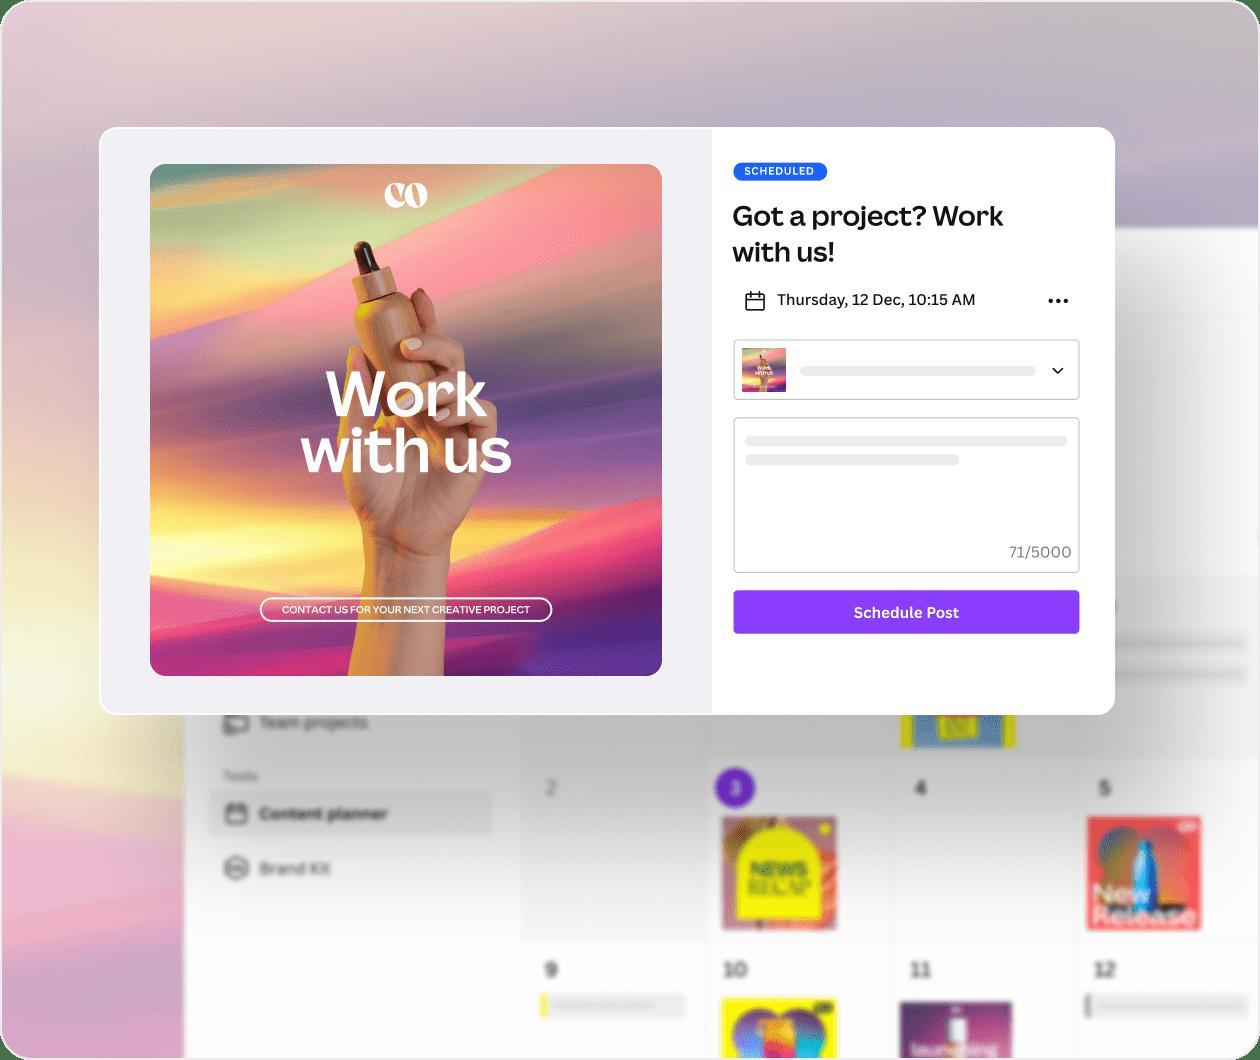button: (734, 591, 1081, 635)
dropdown: (735, 341, 1080, 402)
icon: (740, 291, 771, 315), (1042, 295, 1073, 310)
label: (734, 205, 1007, 267), (776, 291, 978, 311)
